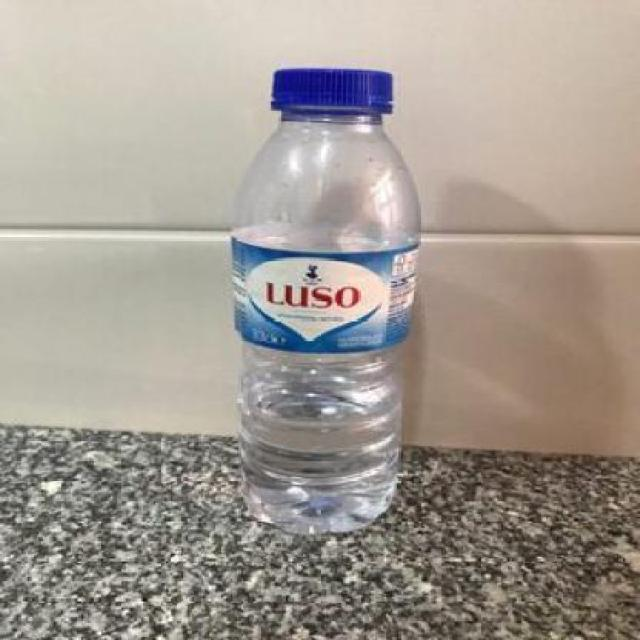bottle: (224, 49, 428, 537)
